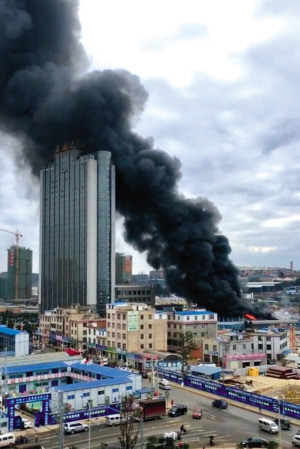smoke: (7, 10, 270, 313)
